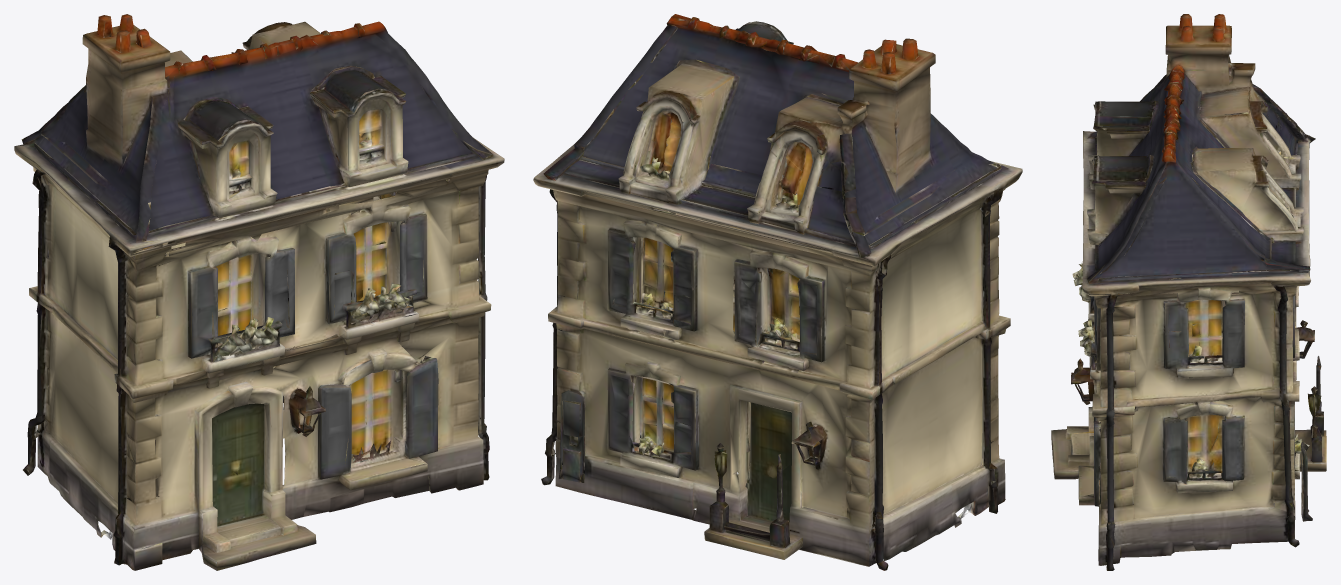
The model's file is villa_2.glb.
3 renders of one model, left to right at view 1: azimuth 30°, elevation 25°; view 2: azimuth 150°, elevation 25°; view 3: azimuth 270°, elevation 25°, orthographic. The views are drawn at different scales.
Visible parts, largest first — view 1: classic__villa_2__neural_lod; view 2: classic__villa_2__neural_lod; view 3: classic__villa_2__neural_lod.
Boxes of the visible parts, left/top/right/bottom form: classic__villa_2__neural_lod: left=14, top=14, right=504, bottom=570; classic__villa_2__neural_lod: left=533, top=14, right=1022, bottom=570; classic__villa_2__neural_lod: left=1051, top=14, right=1326, bottom=570.
Bounding box in the file's own units: 0.7971 × 1 × 0.5914.
1 material, 1 textured.
